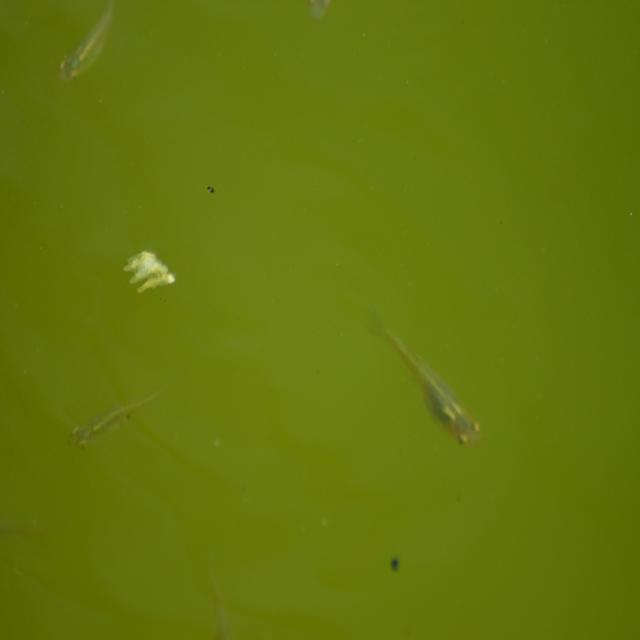Sivrisinek Baligi: (366, 316, 490, 448), (48, 0, 131, 88), (61, 387, 161, 458)
